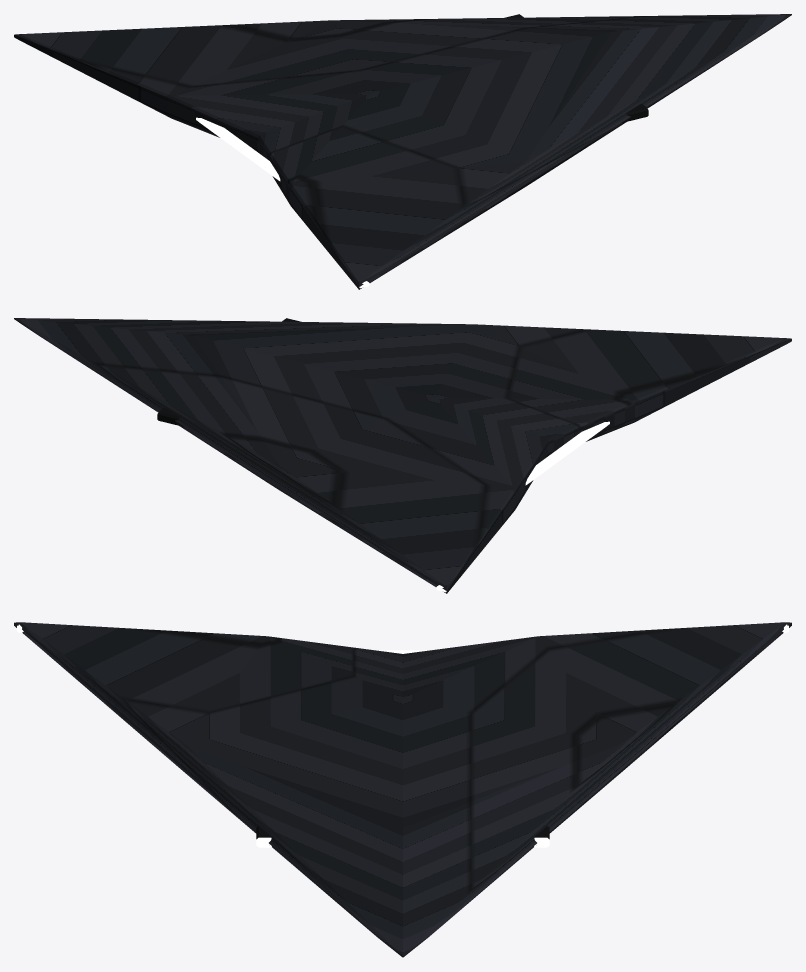
The model's file is raider.glb.
3 renders of one model, top to bottom at view 1: azimuth 30°, elevation 25°; view 2: azimuth 150°, elevation 25°; view 3: azimuth 270°, elevation 25°, orthographic. The views are drawn at different scales.
Visible parts, largest first — view 1: raider; view 2: raider; view 3: raider.
Part boxes in pixels (left/top/right/bottom): raider: left=14, top=14, right=791, bottom=289; raider: left=14, top=318, right=791, bottom=593; raider: left=14, top=622, right=791, bottom=957.
Bounding box in the file's own units: 21.87 × 1.84 × 21.59.
Materials: 1 (1 with a texture image).
